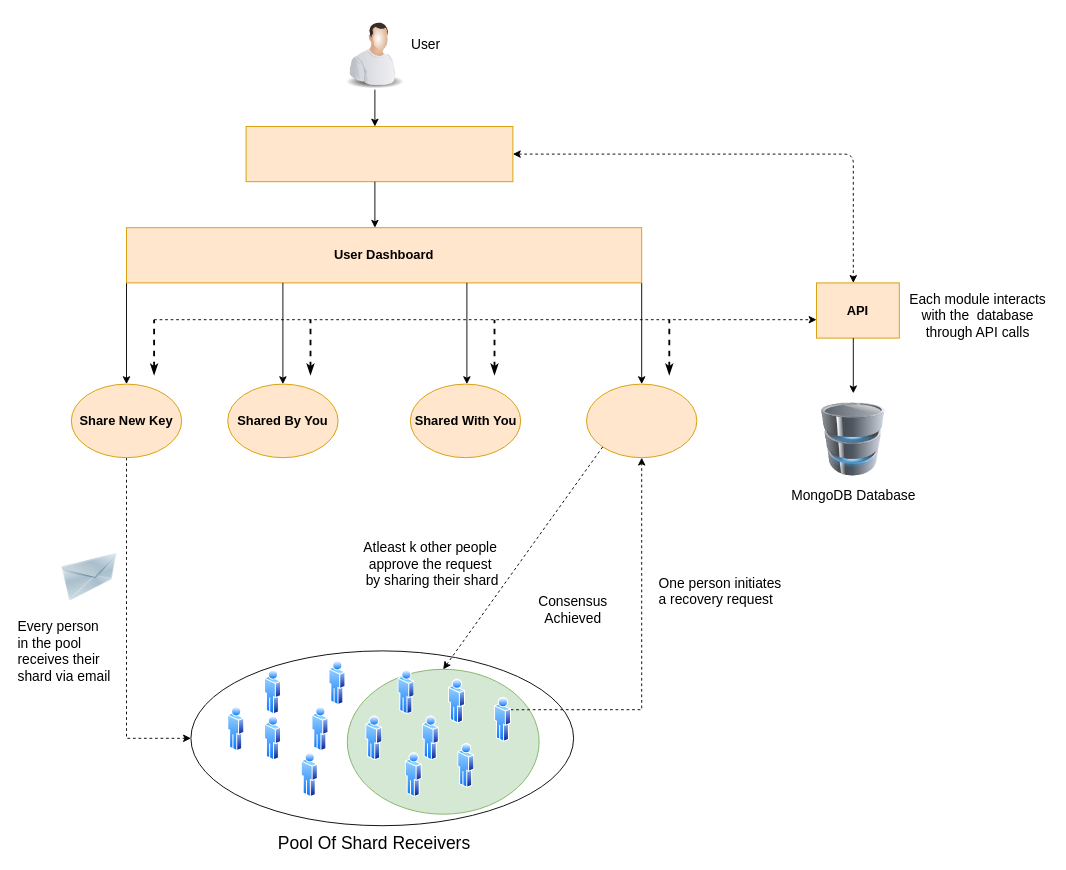
The diagram is 1066 pixels wide and 870 high, and some of its shapes have lost their labels. The shapes that lost their labels are listed below. From the top down, each one's box as (x1, y1, x2, y2) in pixels, then its label:
(245, 126, 513, 182): User Account Creation / Login Screen
(586, 383, 697, 458): Recovery Requests
